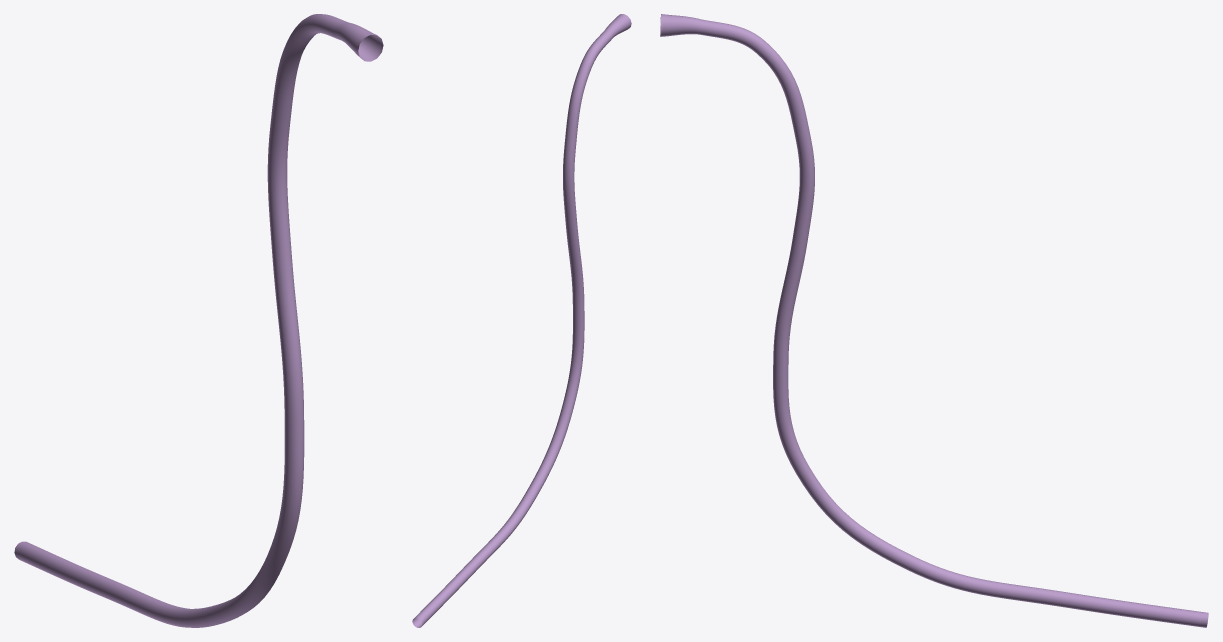
3 renders of one model, left to right at view 1: azimuth 30°, elevation 25°; view 2: azimuth 150°, elevation 25°; view 3: azimuth 270°, elevation 25°, orthographic. The views are drawn at different scales.
Visible parts, largest first — view 1: 尿道; view 2: 尿道; view 3: 尿道.
Part boxes in pixels (bbox=[...]): 尿道: bbox=[14, 14, 383, 627]; 尿道: bbox=[412, 14, 631, 627]; 尿道: bbox=[660, 14, 1208, 627].
Bounding box in the file's own units: 0.0053 × 0.1558 × 0.1265.
